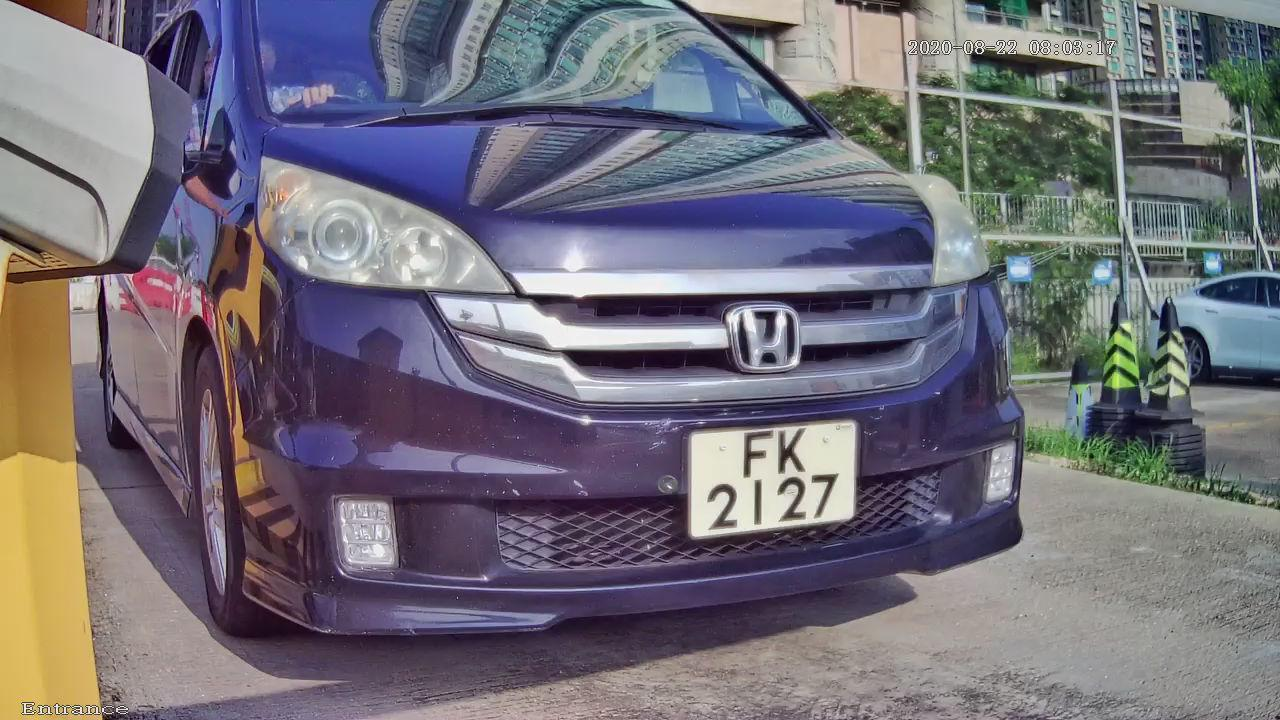Car: (86, 1, 1081, 695)
License Plate: (681, 406, 869, 547)
